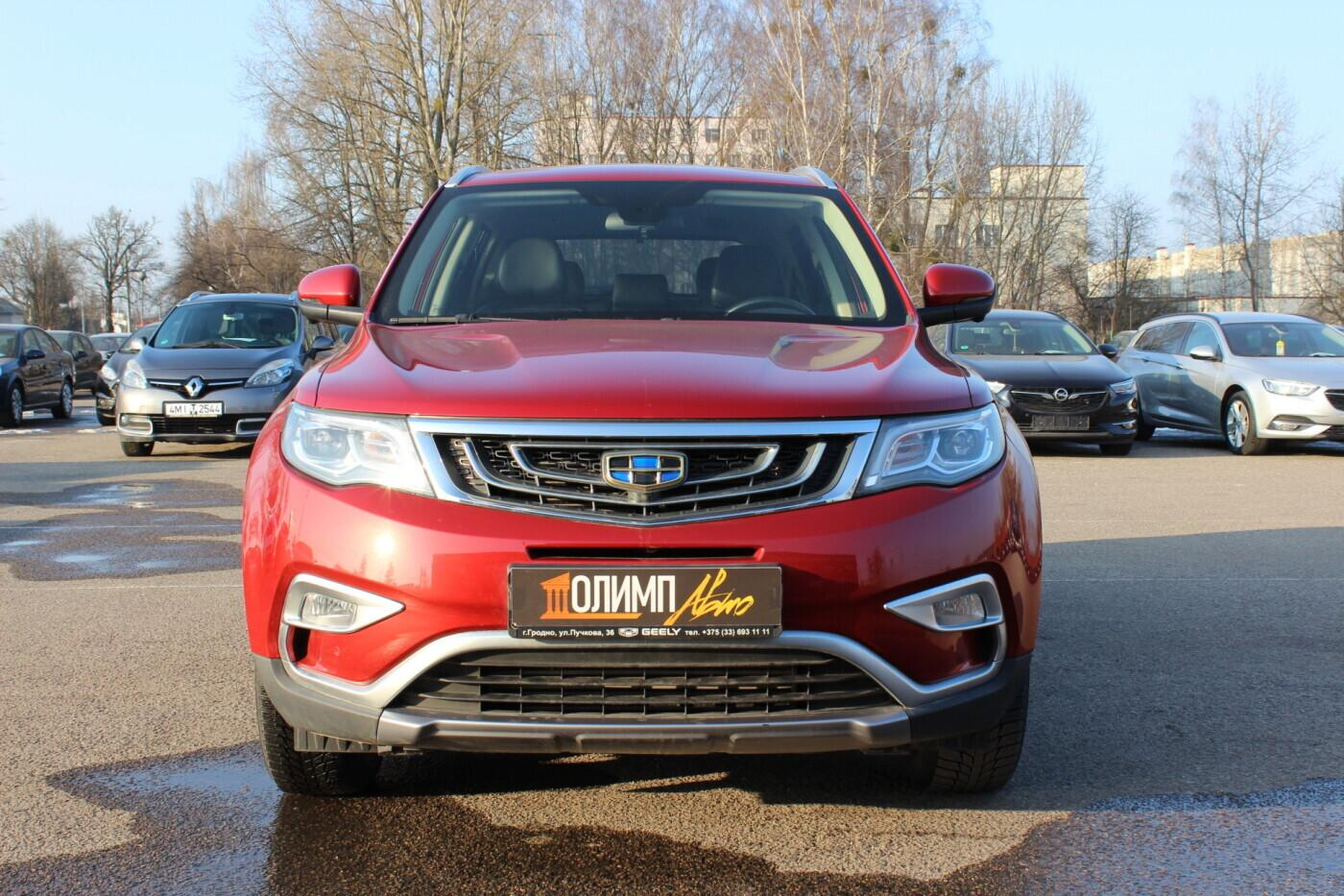Atlas_2016-2023: (235, 160, 1043, 831)
